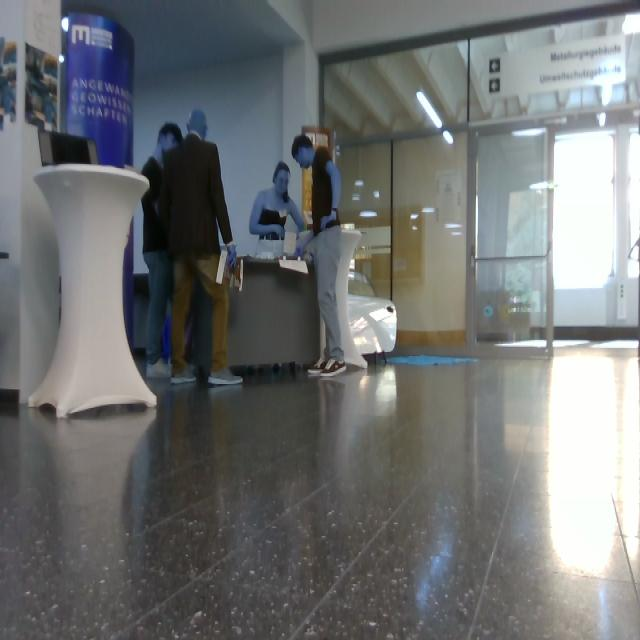desk: (230, 262, 318, 364), (135, 277, 149, 354)
door: (321, 1, 640, 358)
light bulb: (417, 92, 442, 128), (444, 130, 453, 145), (62, 18, 69, 32), (60, 54, 64, 64)
person: (161, 110, 243, 385), (293, 136, 346, 376), (143, 124, 183, 378), (250, 162, 307, 257)
pillar: (1, 1, 61, 402)
table: (29, 165, 156, 417), (337, 230, 366, 368)
tiled floor: (1, 349, 640, 640)
